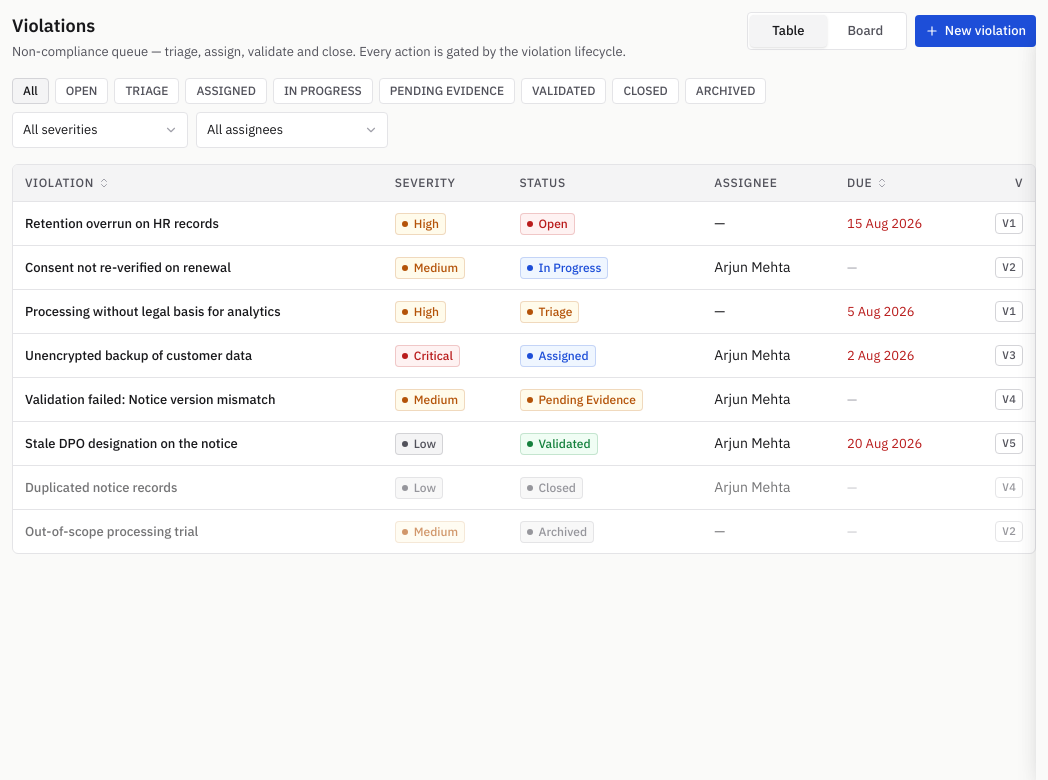
Test: ViolationsView (§9.8) › filters the queue by status chip
expect the text "Retention overrun on HR records" is shown: met, box [25, 215, 219, 232]
Click the button "OPEN". click: x=82, y=90
box: [55, 78, 108, 104]
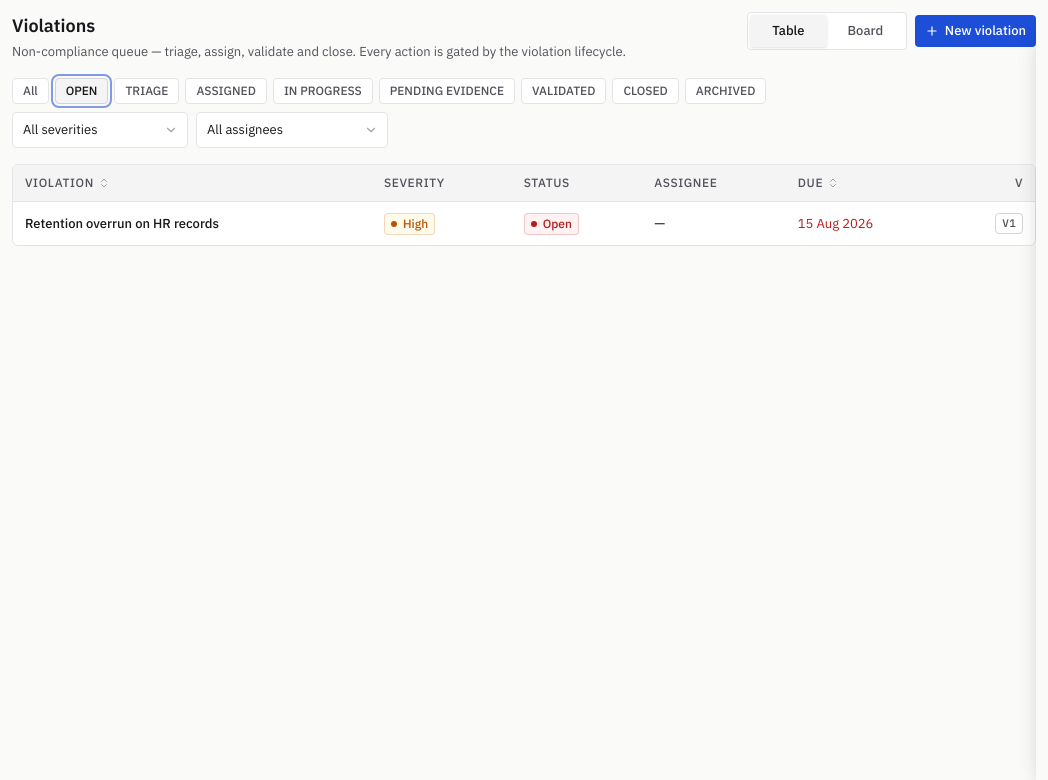
expect the text "Retention overrun on HR records" is shown: met, box [25, 215, 219, 232]
expect the text "Consent not re-verified on renewal" is gone: met
expect the text "Duplicated notice records" is gone: met
